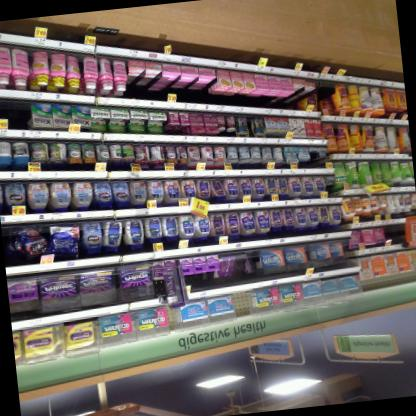empty_space: (6, 100, 34, 129), (233, 290, 256, 319), (383, 226, 396, 246), (0, 100, 8, 128), (395, 224, 406, 244)
